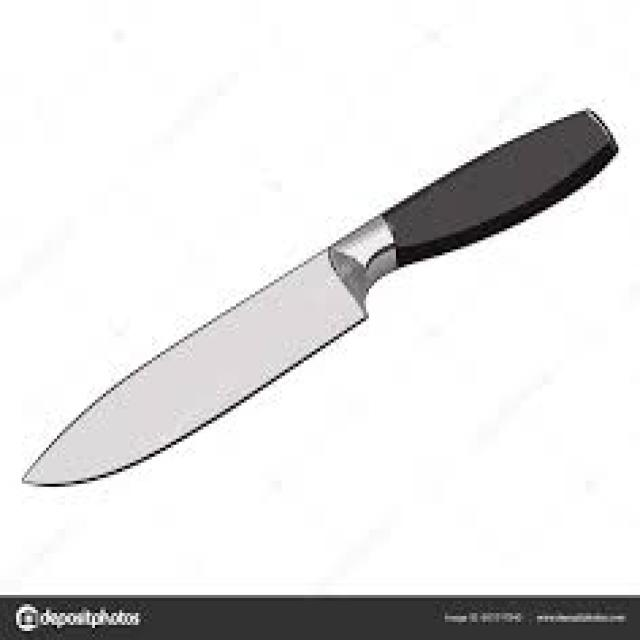Knife: (24, 108, 613, 484)
